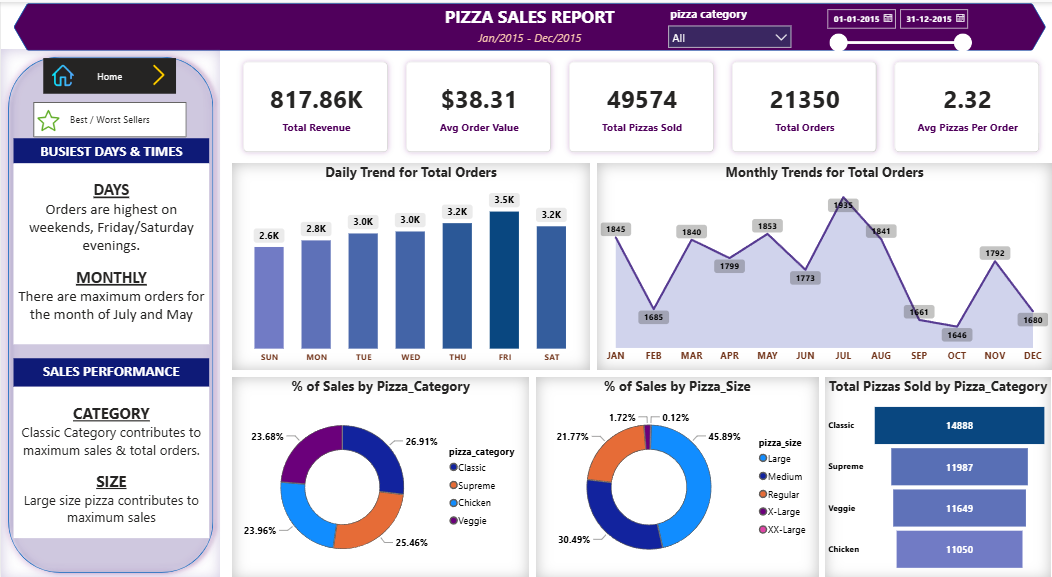

The dashboard page shown, as its layout file describes it:
{"tool":"powerbi","page":{"name":"Home","canvas":[1500,820],"ordinal":0},"visuals":[{"type":"cardVisual","fields":{"Data":["pizza_sales.Total Revenue","pizza_sales.Avg Order Value","pizza_sales.Total Pizzas Sold","pizza_sales.Total Orders","pizza_sales.Avg Pizzas Per Order"]},"box":[328.3,68.8,1162.5,160.9],"z":0},{"type":"shape","box":[16.9,1.3,1464.8,67.5],"z":1000},{"type":"textbox","box":[613.7,0,273.3,42.1],"z":2000},{"type":"textbox","box":[664.9,34.2,170.8,35.5],"z":3000},{"type":"columnChart","title":"Daily Trend for Total Orders","fields":{"Category":["pizza_sales.Order Day"],"Y":["pizza_sales.Total Orders"]},"box":[328.3,228.4,507.3,293.2],"z":4000},{"type":"areaChart","title":"Monthly Trends for Total Orders","fields":{"Category":["pizza_sales.Order Month"],"Y":["pizza_sales.Total Orders"]},"box":[845.9,229.7,644.8,293.2],"z":5000},{"type":"donutChart","title":"% of Sales by Pizza_Category","fields":{"Category":["pizza_sales.pizza_category"],"Y":["pizza_sales.Total Revenue"]},"box":[328.3,532,421.7,288],"z":6000},{"type":"donutChart","title":"% of Sales by Pizza_Size","fields":{"Y":["pizza_sales.Total Revenue"],"Category":["pizza_sales.pizza_size"]},"box":[759,532,400.9,288],"z":7000},{"type":"funnel","title":"Total Pizzas Sold by Pizza_Category","fields":{"Category":["pizza_sales.pizza_category"],"Y":["pizza_sales.Total Pizzas Sold"]},"box":[1169,532,321.8,288],"z":8000},{"type":"shape","box":[0,67.5,311.4,752.5],"z":9000},{"type":"textbox","box":[16.9,193.3,277.7,36.3],"z":10000},{"type":"textbox","box":[16.9,229.7,277.7,256.9],"z":10001},{"type":"textbox","box":[16.9,506,277.7,40.2],"z":10002},{"type":"textbox","box":[16.9,546.2,277.7,214.1],"z":10003},{"type":"slicer","fields":{"Values":["pizza_sales.pizza_category"]},"box":[936.8,0,194.6,67.5],"z":10004},{"type":"slicer","fields":{"Values":["pizza_sales.order_date"]},"box":[1159.9,0,225.8,79.1],"z":10005},{"type":"pageNavigator","box":[61,79.1,188.1,50.6],"z":10006},{"type":"pageNavigator","box":[46.7,142.7,218,50.6],"z":10007},{"type":"image","box":[61,89.5,55.8,31.1],"z":10008},{"type":"image","box":[46.7,153.1,42.8,31.1],"z":10009},{"type":"image","box":[172.6,89.5,103.8,29.8],"z":10010}]}

Visuals, with their boxes in screenshot pixels (x1, y1, x2, y2), scaled from the page's 1500x820 canvas onto the 1052x577 screenshot:
cardVisual - pizza_sales.Total Revenue x pizza_sales.Avg Order Value: <bbox>230, 48, 1046, 162</bbox>
shape: <bbox>12, 1, 1039, 48</bbox>
textbox: <bbox>430, 0, 622, 30</bbox>
textbox: <bbox>466, 24, 586, 49</bbox>
"Daily Trend for Total Orders" columnChart: <bbox>230, 161, 586, 367</bbox>
"Monthly Trends for Total Orders" areaChart: <bbox>593, 162, 1045, 368</bbox>
"% of Sales by Pizza_Category" donutChart: <bbox>230, 374, 526, 576</bbox>
"% of Sales by Pizza_Size" donutChart: <bbox>532, 374, 813, 576</bbox>
"Total Pizzas Sold by Pizza_Category" funnel: <bbox>820, 374, 1046, 576</bbox>
shape: <bbox>0, 47, 218, 576</bbox>
textbox: <bbox>12, 136, 207, 162</bbox>
textbox: <bbox>12, 162, 207, 342</bbox>
textbox: <bbox>12, 356, 207, 384</bbox>
textbox: <bbox>12, 384, 207, 535</bbox>
slicer - pizza_sales.pizza_category: <bbox>657, 0, 793, 47</bbox>
slicer - pizza_sales.order_date: <bbox>813, 0, 972, 56</bbox>
pageNavigator: <bbox>43, 56, 175, 91</bbox>
pageNavigator: <bbox>33, 100, 186, 136</bbox>
image: <bbox>43, 63, 82, 85</bbox>
image: <bbox>33, 108, 63, 130</bbox>
image: <bbox>121, 63, 194, 84</bbox>
